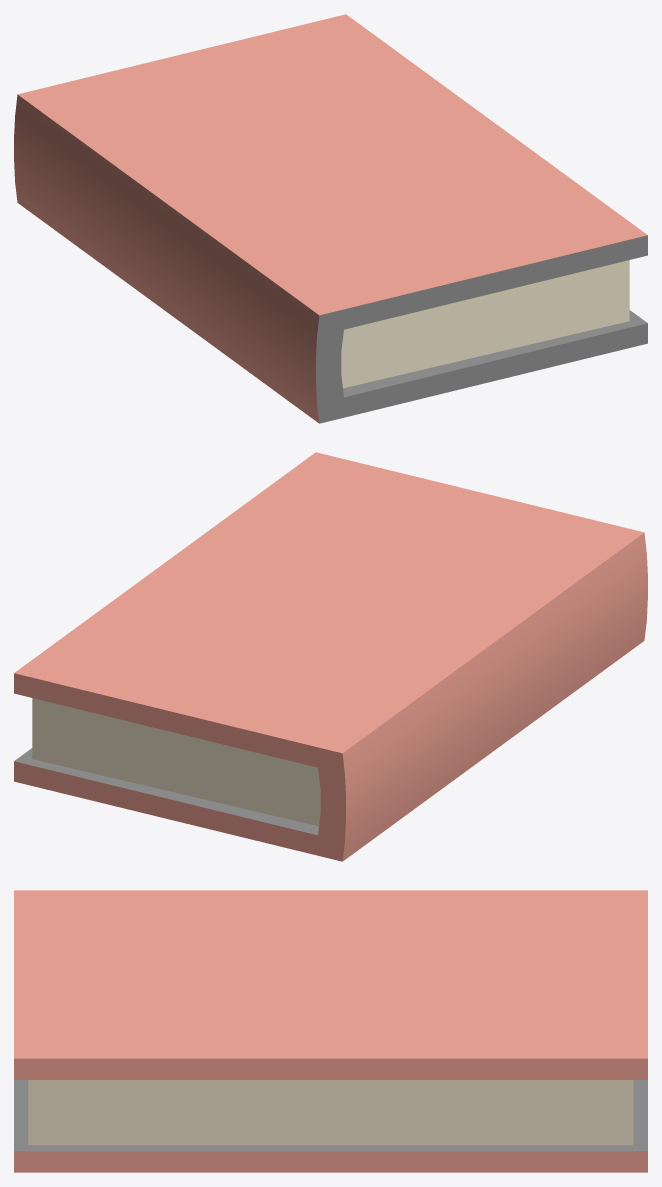
File: book_02.FBX
3 renders of one model, top to bottom at view 1: azimuth 30°, elevation 25°; view 2: azimuth 150°, elevation 25°; view 3: azimuth 270°, elevation 25°, orthographic. The views are drawn at different scales.
Visible parts, largest first — view 1: Box012; view 2: Box012; view 3: Box012.
Part boxes in pixels (x1,y1,x2,y2): Box012: (14, 14, 647, 423); Box012: (14, 452, 647, 861); Box012: (14, 890, 647, 1172).
Size of the model in its own units: 24.85 by 7.75 by 39.13.
